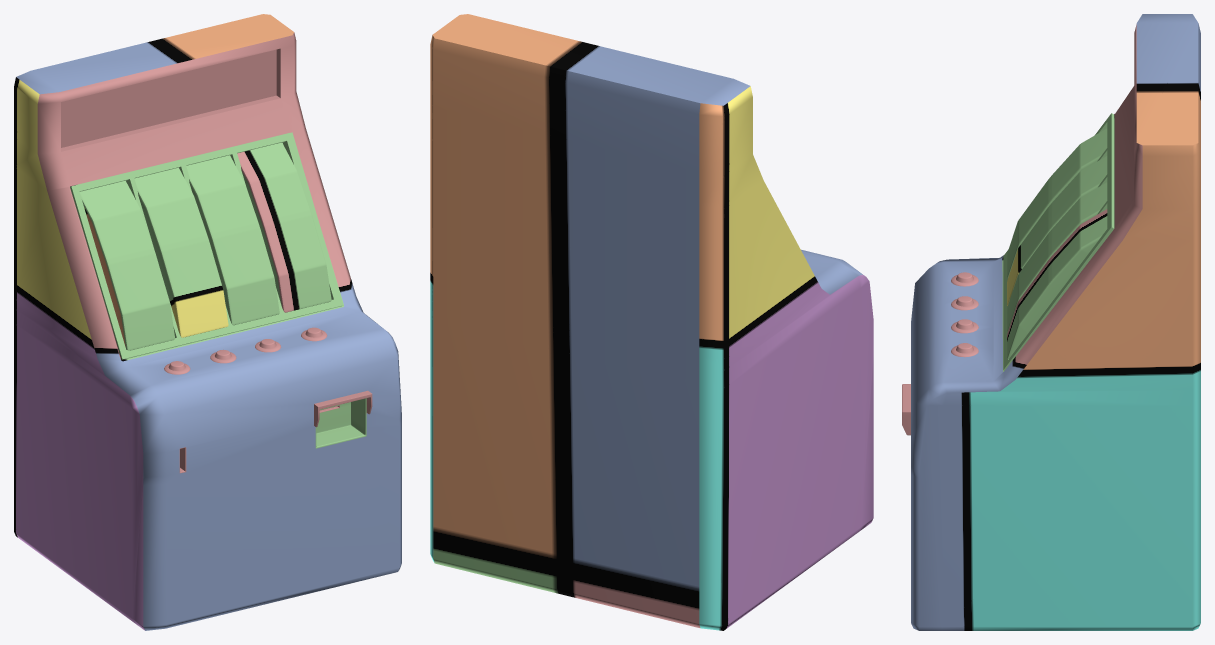
The model's file is PokieMachine02.fbx.
3 views of the same model, side by side, from view 1: azimuth 30°, elevation 25°; view 2: azimuth 150°, elevation 25°; view 3: azimuth 270°, elevation 25° (orthographic). The views are drawn at different scales.
Visible parts, largest first — view 1: PokiMachine_Pokie; view 2: PokiMachine_Pokie; view 3: PokiMachine_Pokie.
Boxes of the visible parts, x1=… form: PokiMachine_Pokie: x1=14, y1=14, x2=401, y2=630; PokiMachine_Pokie: x1=430, y1=14, x2=873, y2=630; PokiMachine_Pokie: x1=902, y1=14, x2=1200, y2=630.
Bounding box in the file's own units: 103 × 175 × 97.14.
1 material, 1 textured.
